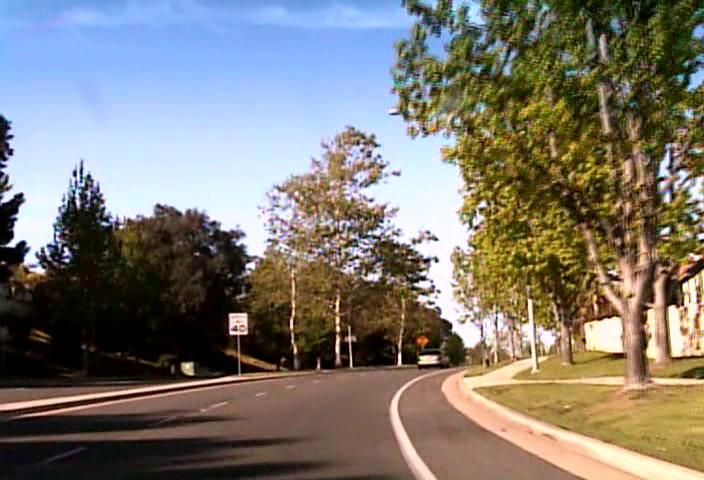speedLimit40: (228, 312, 248, 335)
